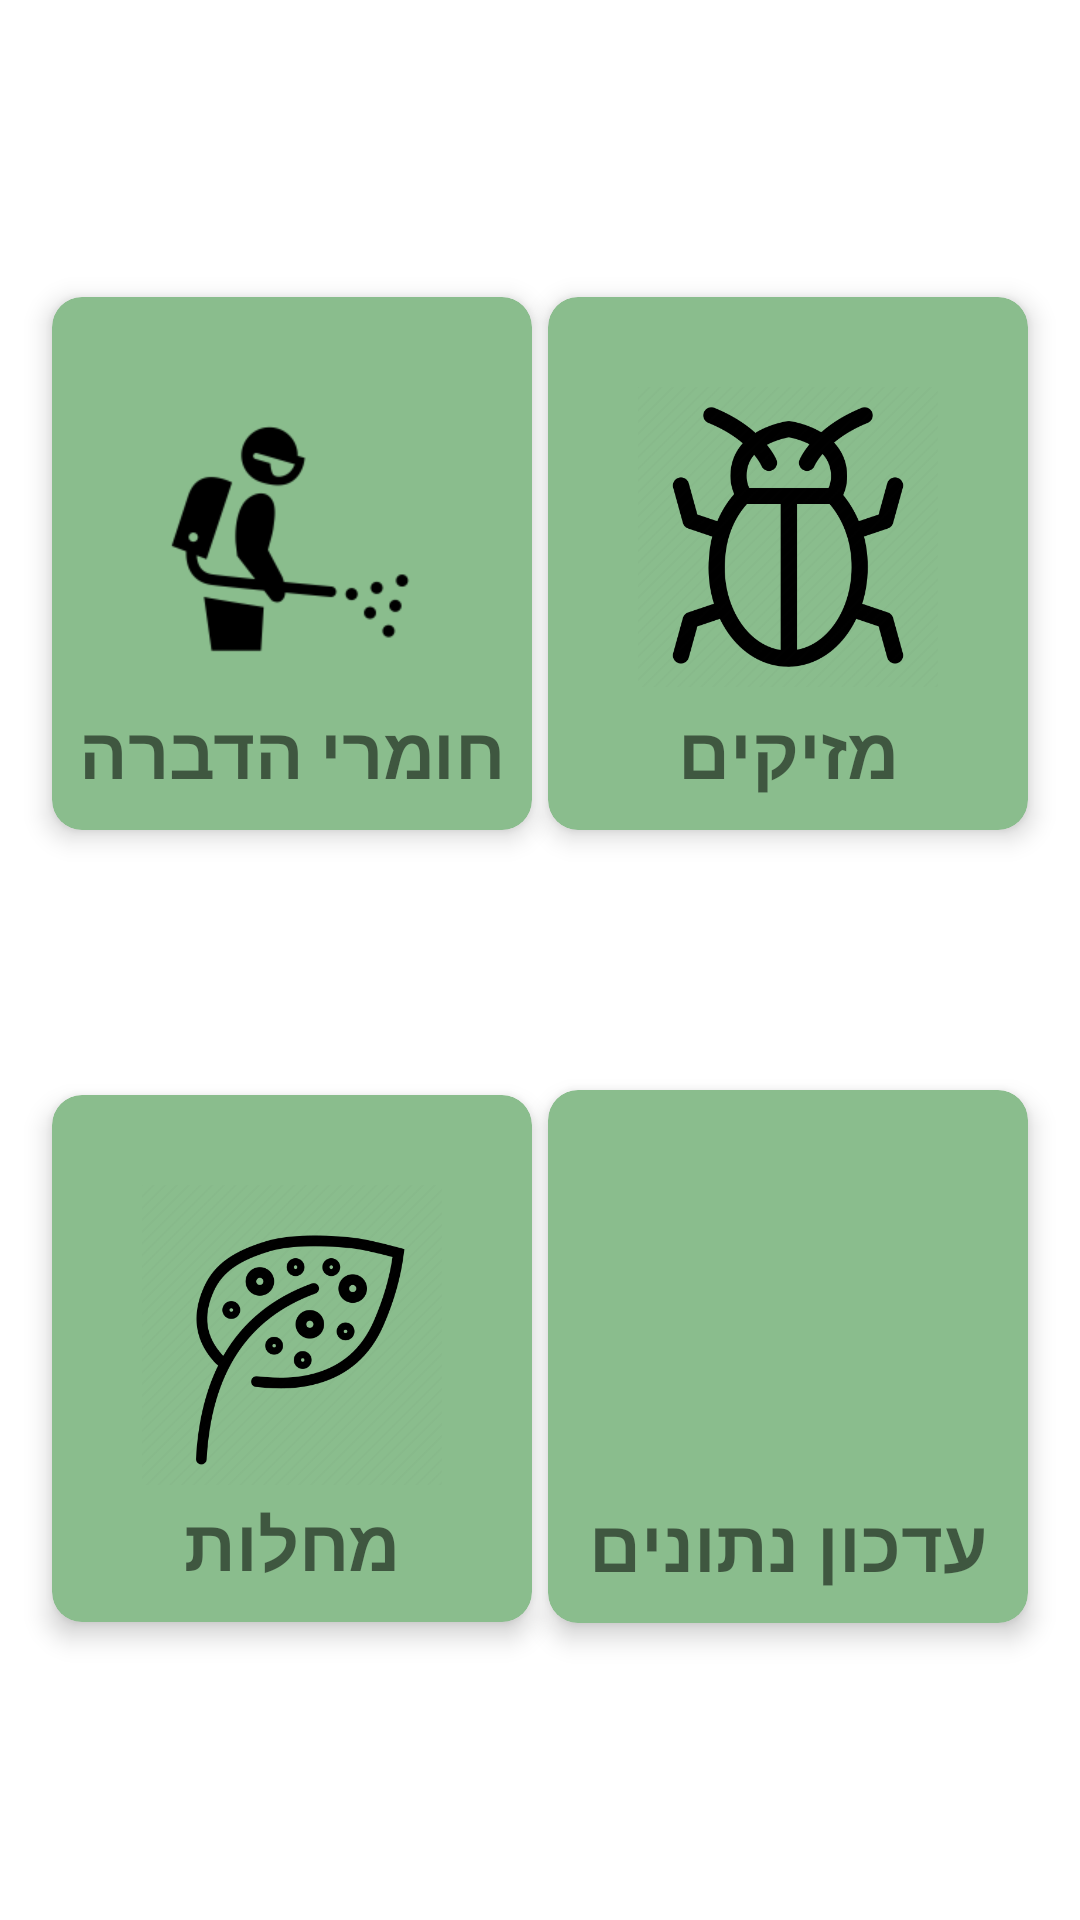

Icon bounding boxes for this 1080x1920 phone screenshot, format (x1, y1, x2, y2):
bug: (672, 407, 904, 667)
leaf: (196, 1235, 405, 1465)
